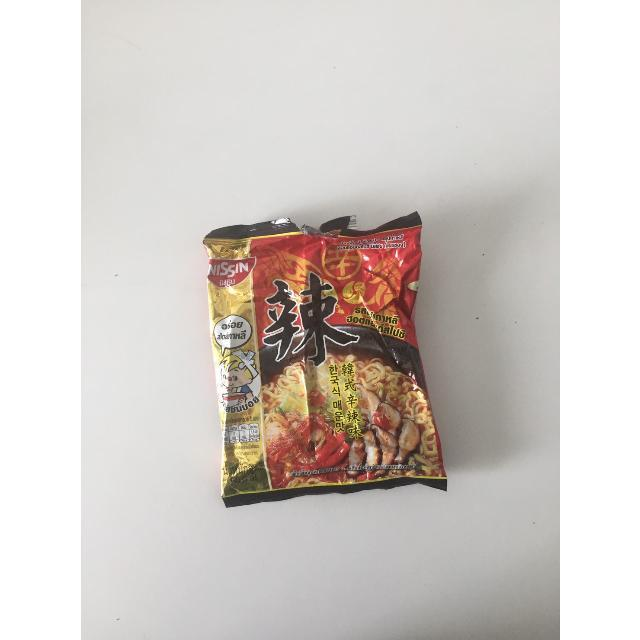Paquete de plastico: (202, 220, 445, 495)
